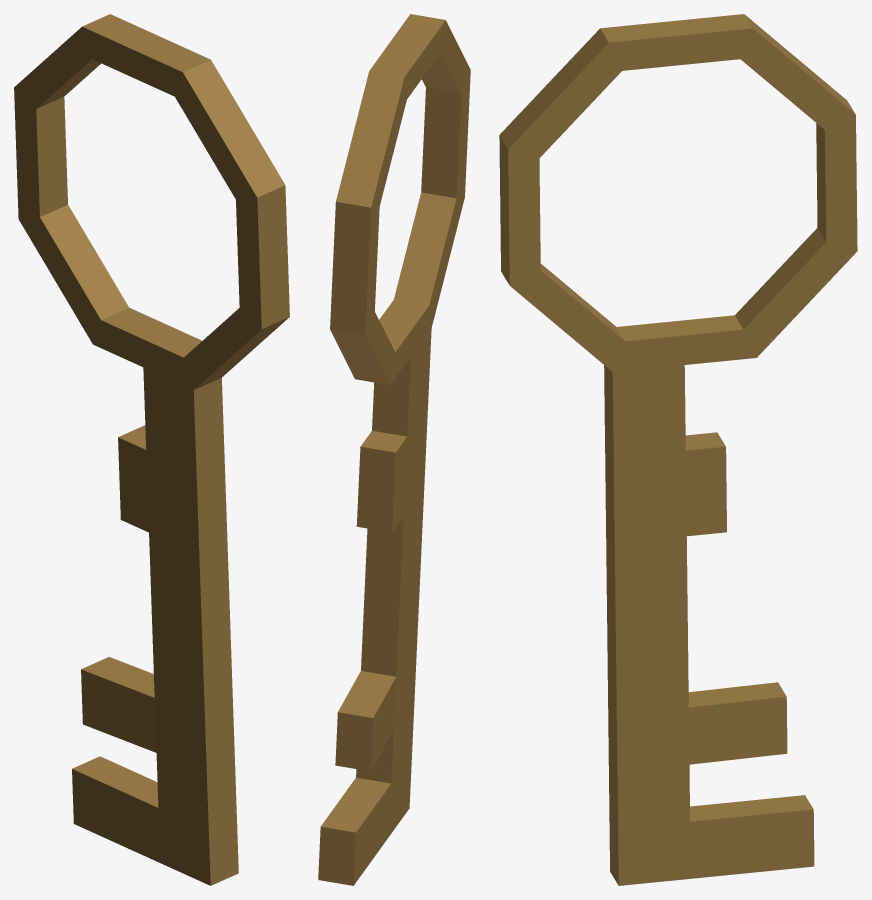
The model's file is Key.fbx.
3 renders of one model, left to right at view 1: azimuth 30°, elevation 25°; view 2: azimuth 150°, elevation 25°; view 3: azimuth 270°, elevation 25°, orthographic. The views are drawn at different scales.
Parts seen in each view (by area): view 1: Key; view 2: Key; view 3: Key.
Boxes of the visible parts, x1,y1,x2,y2 form: Key: (14, 14, 289, 885); Key: (318, 14, 470, 885); Key: (499, 14, 857, 885).
Bounding box in the file's own units: 0.0425 × 0.3031 × 0.1187.
